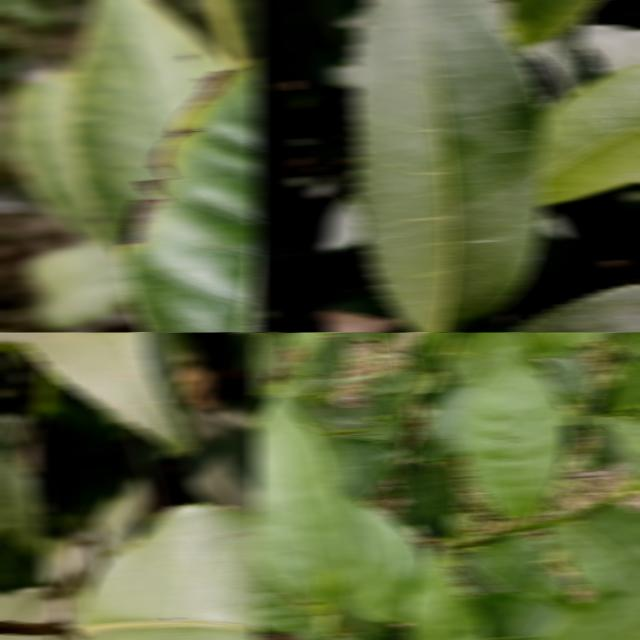Leaf: (351, 0, 546, 332), (64, 0, 233, 253), (118, 57, 260, 332), (73, 503, 260, 640), (17, 332, 198, 457), (252, 381, 348, 599), (459, 346, 575, 520), (5, 69, 103, 238), (536, 64, 640, 205), (31, 368, 122, 529), (334, 492, 430, 622), (544, 504, 640, 598), (182, 403, 260, 514), (406, 543, 487, 640), (477, 535, 578, 608), (252, 561, 329, 639), (252, 198, 339, 265), (442, 332, 545, 385), (535, 590, 640, 640), (503, 0, 600, 52), (462, 591, 562, 640), (417, 383, 477, 461), (337, 436, 405, 499), (427, 437, 464, 538), (401, 460, 442, 538), (578, 23, 640, 73), (304, 337, 350, 400), (534, 357, 594, 404), (393, 371, 431, 421), (353, 413, 407, 447), (607, 355, 640, 409), (602, 415, 640, 453), (372, 369, 414, 396), (232, 332, 260, 372), (573, 403, 610, 427)
